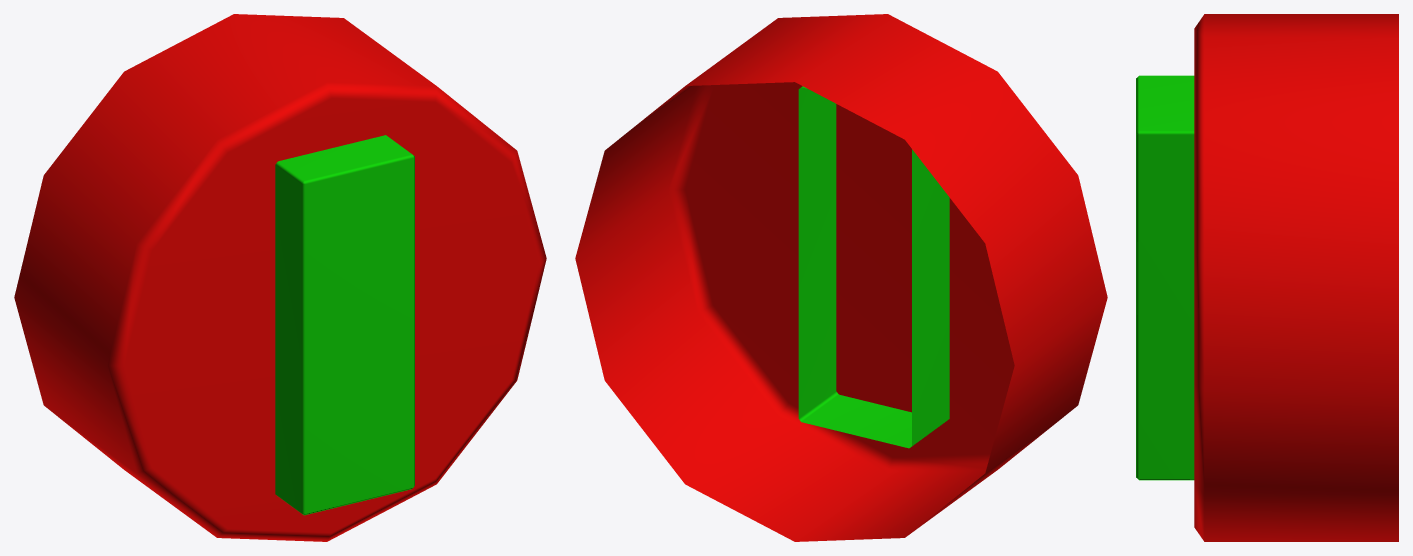
The model's file is Door_Locker.fbx.
The picture shows the model from 3 angles, left to right: view 1: azimuth 30°, elevation 25°; view 2: azimuth 150°, elevation 25°; view 3: azimuth 270°, elevation 25°; orthographic projection. The views are drawn at different scales.
Parts seen in each view (by area): view 1: Door_Locker; view 2: Door_Locker; view 3: Door_Locker.
Part boxes in pixels (<box>): Door_Locker: <box>14,14,546,541</box>; Door_Locker: <box>575,14,1107,541</box>; Door_Locker: <box>1136,14,1398,541</box>.
Size of the model in its own units: 57.56 by 57.56 by 28.53.
